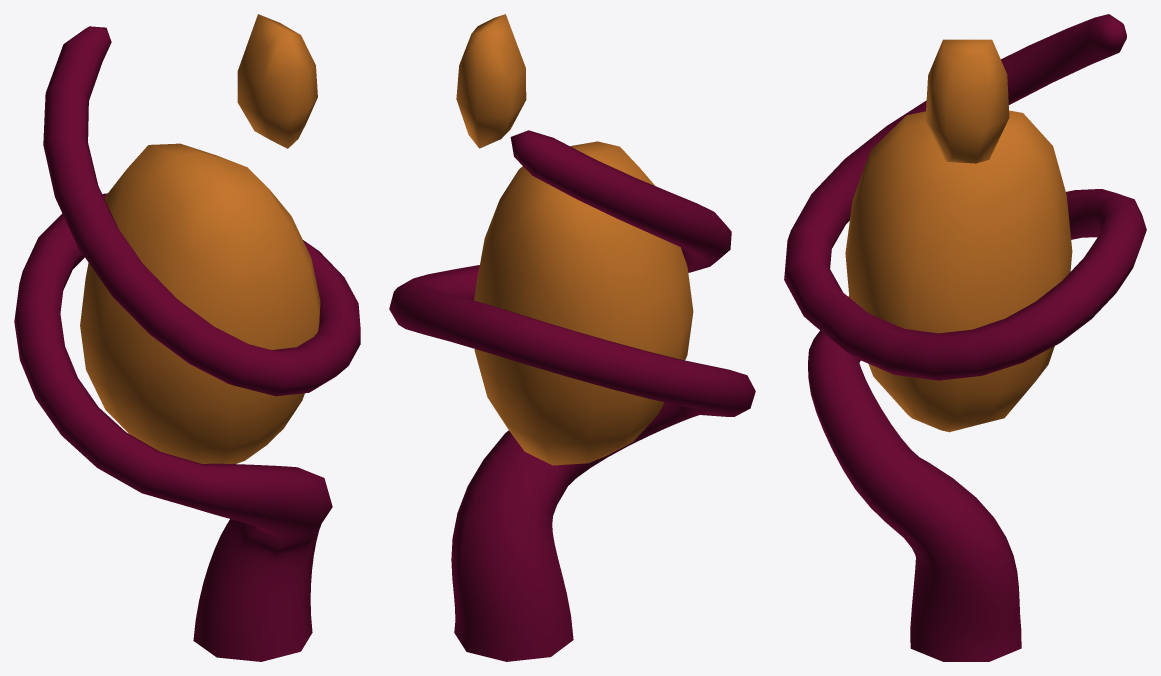
Rendered from Tree_Lava_3.glb.
The picture shows the model from 3 angles, left to right: view 1: azimuth 30°, elevation 25°; view 2: azimuth 150°, elevation 25°; view 3: azimuth 270°, elevation 25°; orthographic projection.
Visible parts, largest first — view 1: Tree_Lava_3; view 2: Tree_Lava_3; view 3: Tree_Lava_3.
Part boxes in pixels (x1,y1,x2,y2): Tree_Lava_3: (14,14,360,661); Tree_Lava_3: (389,14,755,661); Tree_Lava_3: (784,14,1146,661).
Bounding box in the file's own units: 1.12 × 2.09 × 1.13.
1 material, 1 textured.
